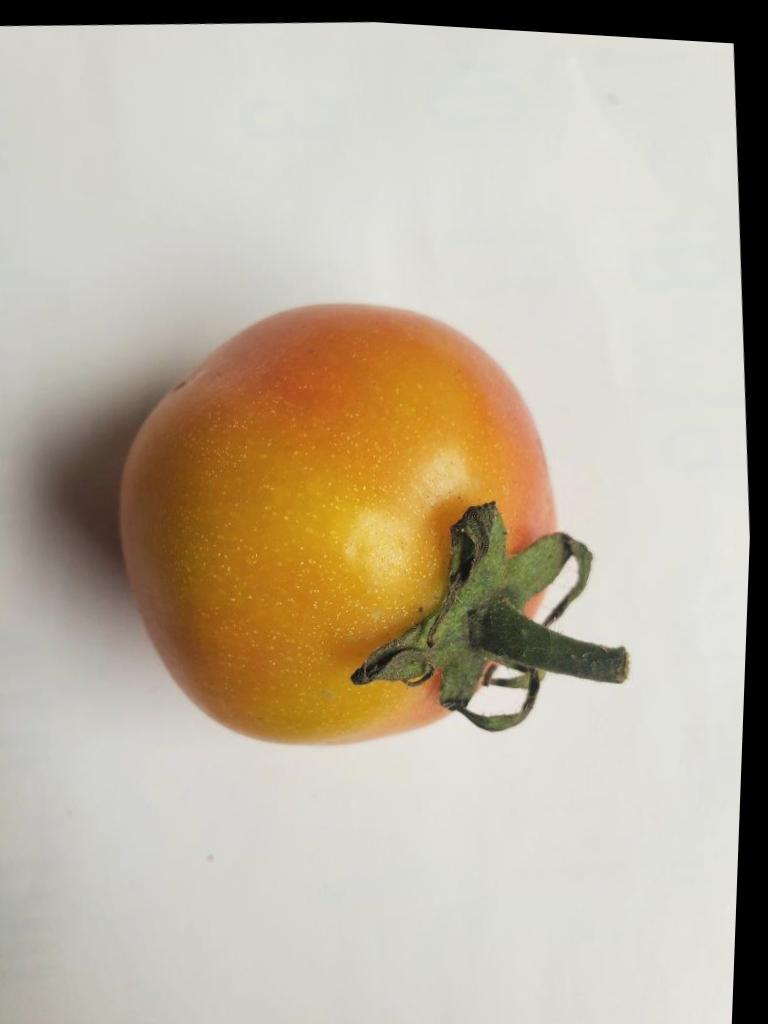tomato: (120, 305, 626, 742)
